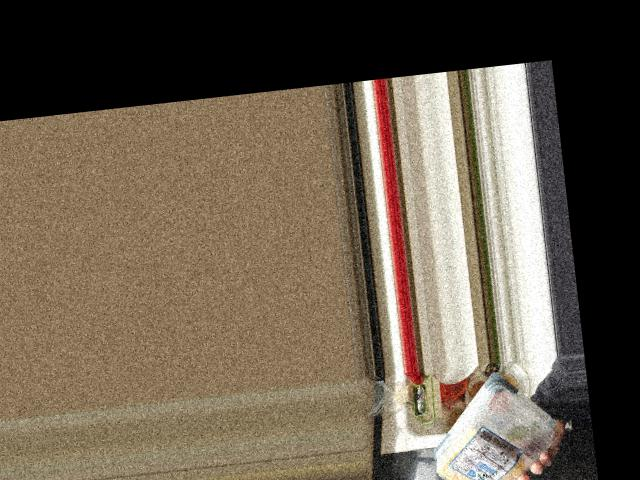cheese: (426, 384, 561, 480)
